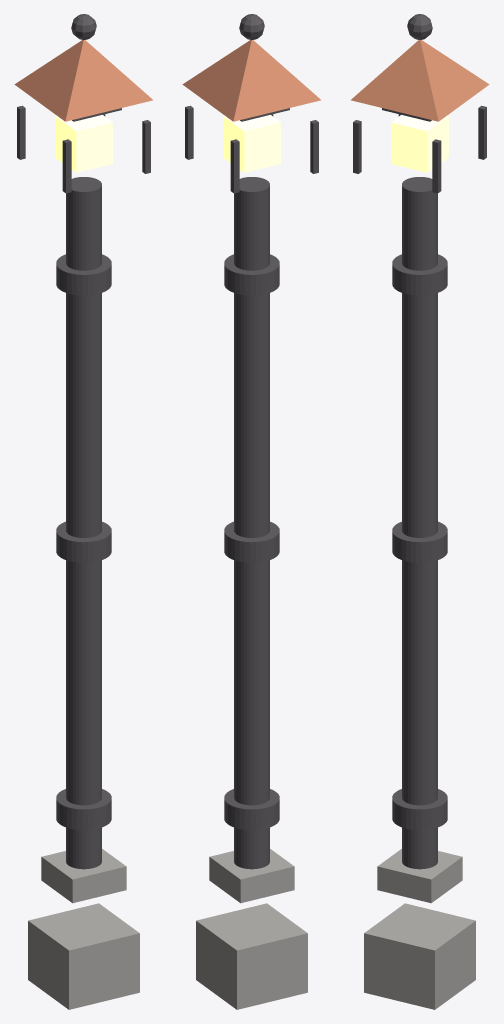
Rendered from street_lantern.glb.
3 views of the same model, side by side, from view 1: azimuth 30°, elevation 25°; view 2: azimuth 210°, elevation 25°; view 3: azimuth 330°, elevation 25° (orthographic).
Visible parts, largest first — view 1: Cylinder, Cube, Cone, Cube.001, Cube.006, Cylinder.003, Cylinder.001, Cylinder.002, Sphere, Cube.002, Cube.003, Cube.004; view 2: Cylinder, Cube, Cone, Cube.001, Cube.006, Cylinder.003, Cylinder.001, Cylinder.002, Sphere, Cube.005, Cube.003, Cube.004; view 3: Cylinder, Cube, Cone, Cube.001, Cube.006, Cylinder.003, Cylinder.001, Cylinder.002, Sphere, Cube.004, Cube.002, Cube.005.
Part boxes in pixels (bbox=[...]): Cylinder: bbox=[66, 177, 101, 869]; Cube: bbox=[28, 903, 139, 1009]; Cone: bbox=[14, 40, 153, 121]; Cube.001: bbox=[41, 849, 126, 903]; Cube.006: bbox=[55, 115, 112, 172]; Cylinder.003: bbox=[56, 254, 111, 295]; Cylinder.001: bbox=[56, 789, 111, 830]; Cylinder.002: bbox=[56, 521, 111, 562]; Sphere: bbox=[71, 14, 96, 39]; Cube.002: bbox=[62, 139, 71, 193]; Cube.003: bbox=[17, 105, 25, 159]; Cube.004: bbox=[142, 120, 150, 173]; Cylinder: bbox=[234, 177, 269, 869]; Cube: bbox=[196, 903, 307, 1009]; Cone: bbox=[182, 40, 321, 121]; Cube.001: bbox=[209, 849, 294, 903]; Cube.006: bbox=[223, 115, 280, 172]; Cylinder.003: bbox=[224, 254, 279, 295]; Cylinder.001: bbox=[224, 789, 279, 830]; Cylinder.002: bbox=[224, 521, 279, 562]; Sphere: bbox=[239, 14, 264, 39]; Cube.005: bbox=[230, 139, 239, 193]; Cube.003: bbox=[310, 120, 318, 173]; Cube.004: bbox=[185, 105, 193, 159]; Cylinder: bbox=[402, 177, 437, 869]; Cube: bbox=[364, 903, 475, 1009]; Cone: bbox=[350, 40, 489, 121]; Cube.001: bbox=[377, 849, 462, 903]; Cube.006: bbox=[391, 115, 448, 172]; Cylinder.003: bbox=[392, 254, 447, 295]; Cylinder.001: bbox=[392, 789, 447, 830]; Cylinder.002: bbox=[392, 521, 447, 562]; Sphere: bbox=[407, 14, 432, 39]; Cube.004: bbox=[432, 139, 441, 193]; Cube.002: bbox=[353, 120, 361, 173]; Cube.005: bbox=[478, 105, 486, 159].
Size of the model in its own units: 0.3111 by 3.27 by 0.3111.
